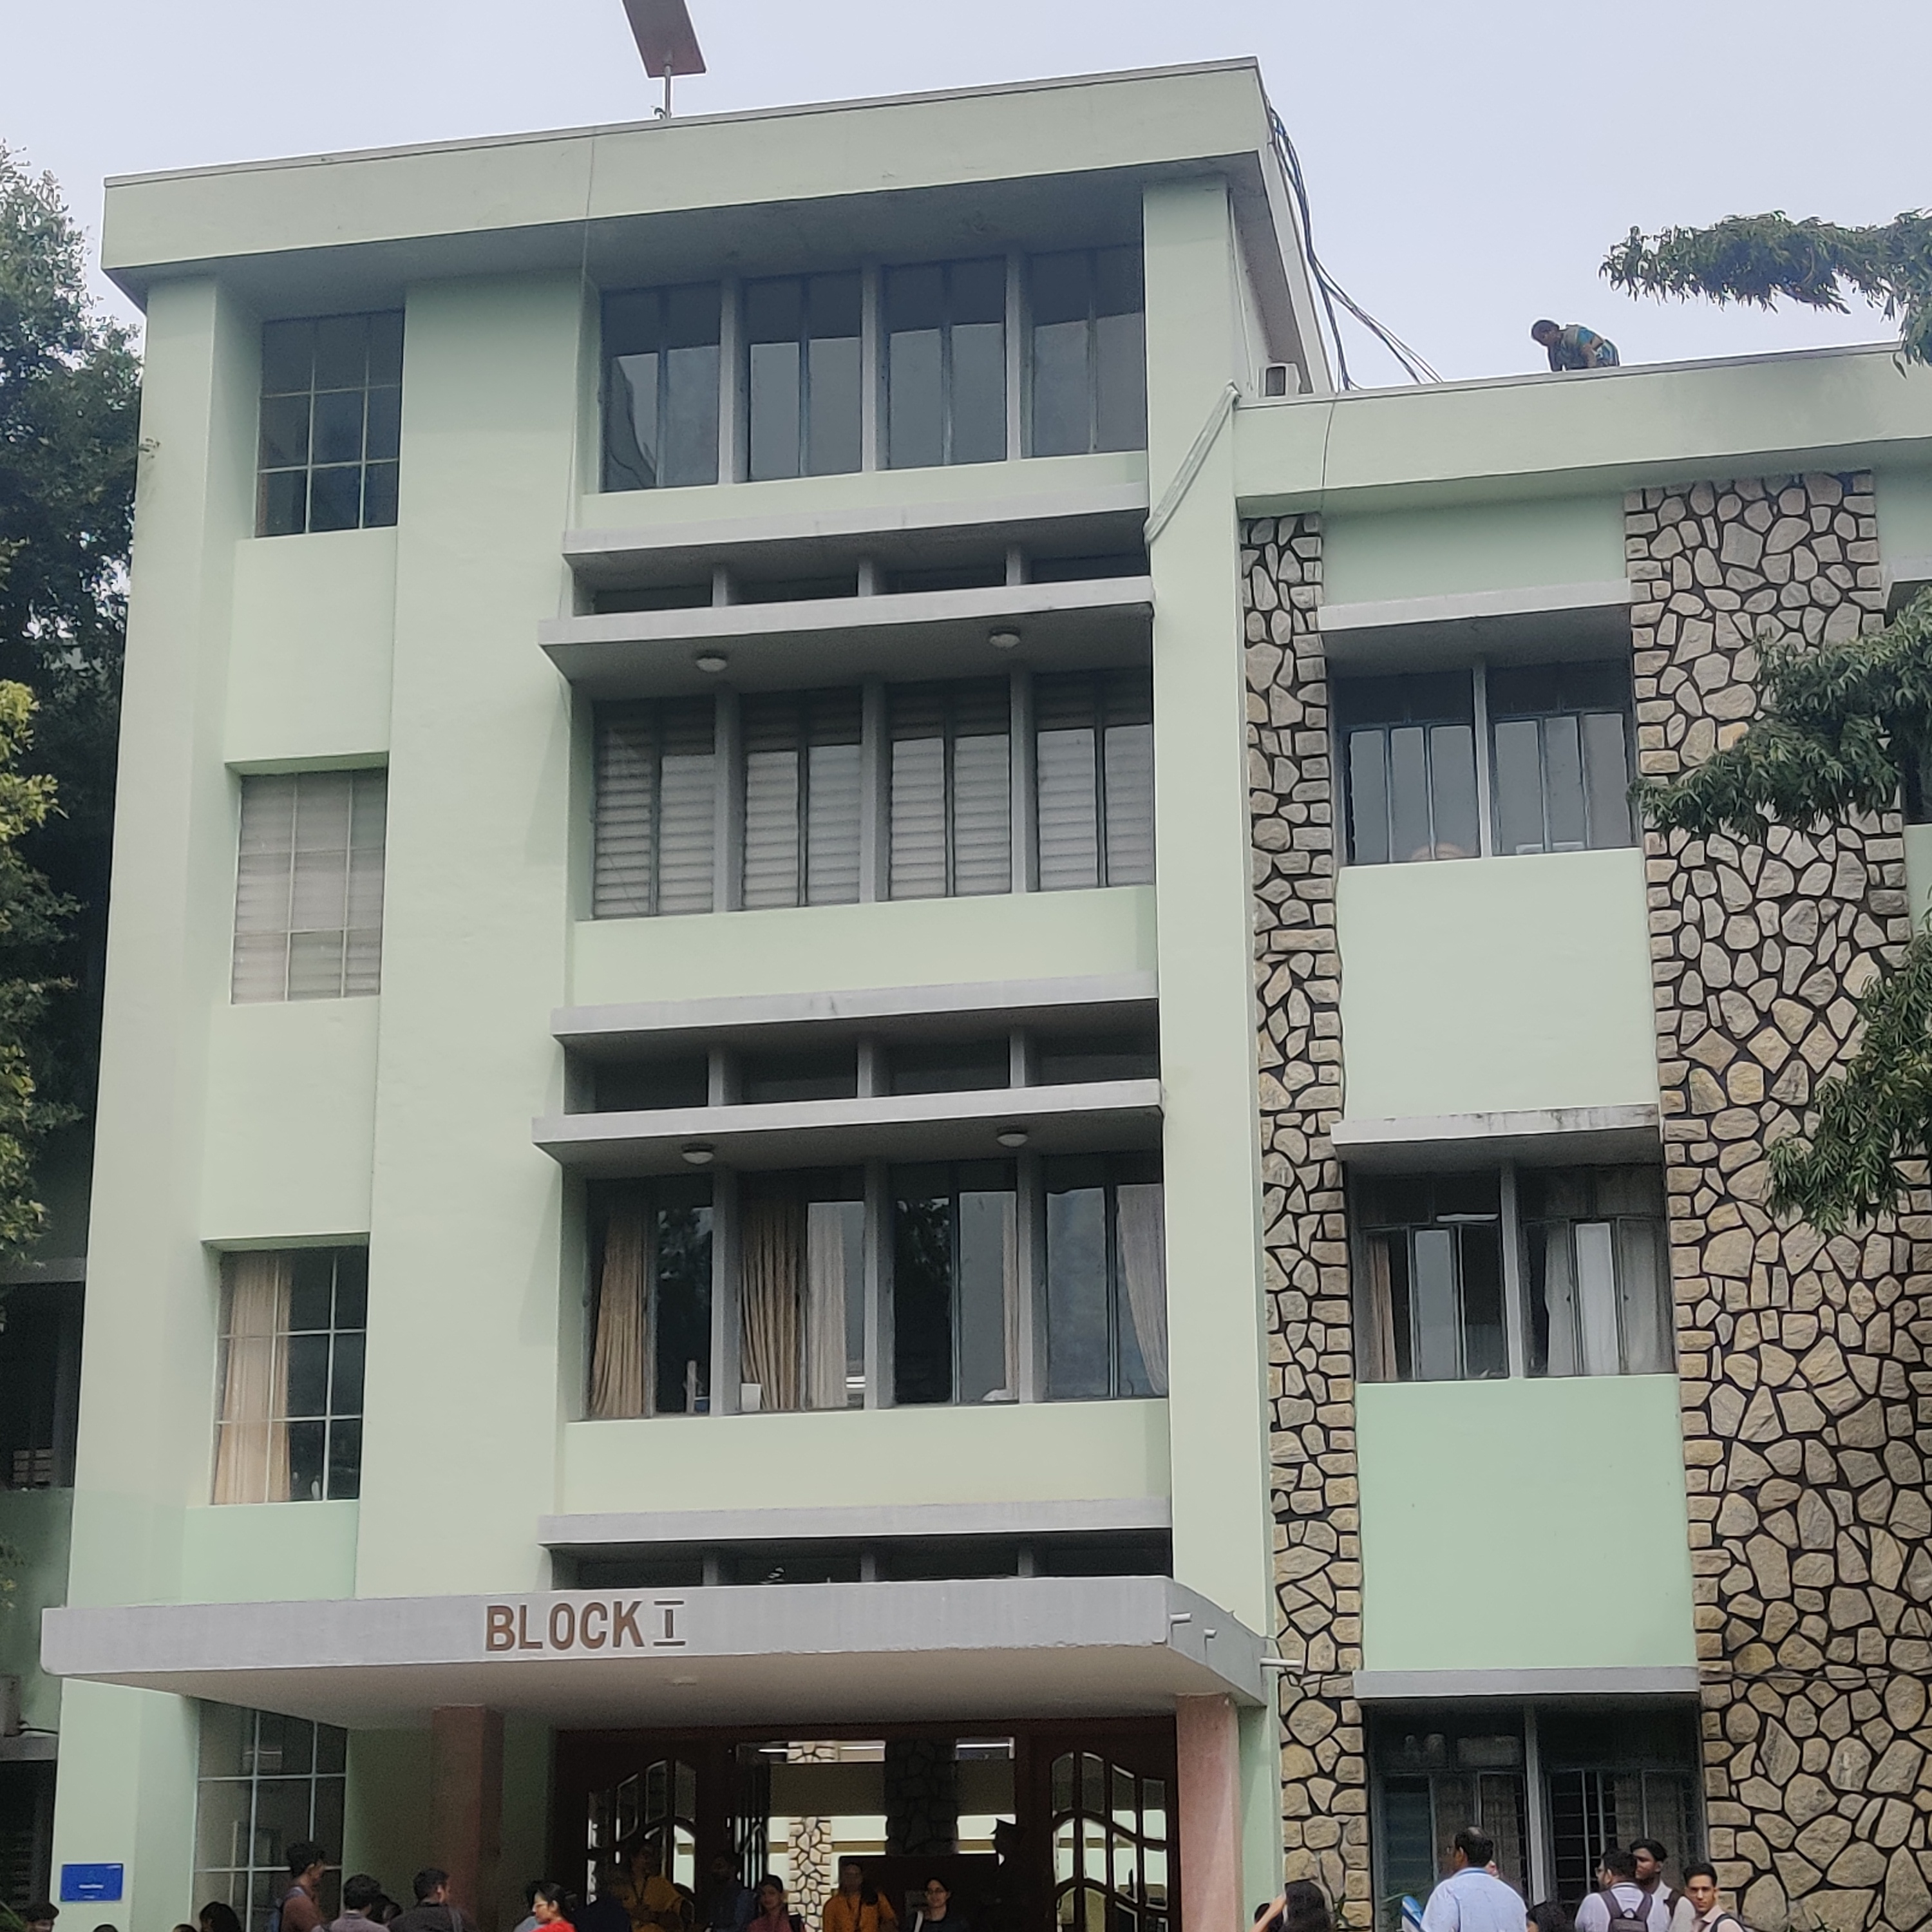Block 1: (96, 76, 1911, 1847)
